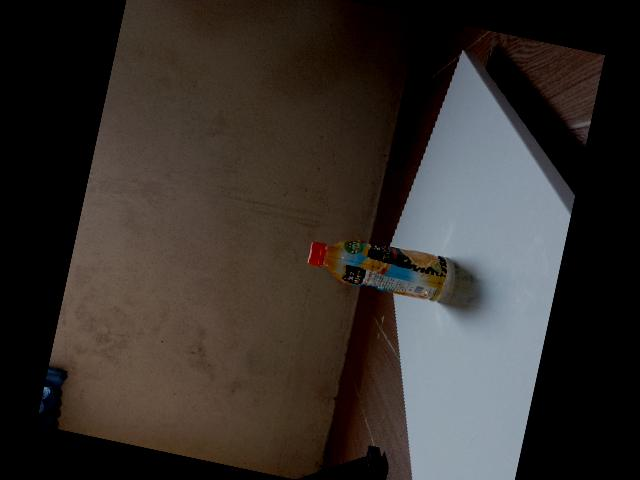teppy_orange_juice: (308, 238, 451, 301)
